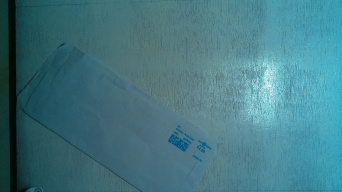l: (18, 38, 223, 192)
